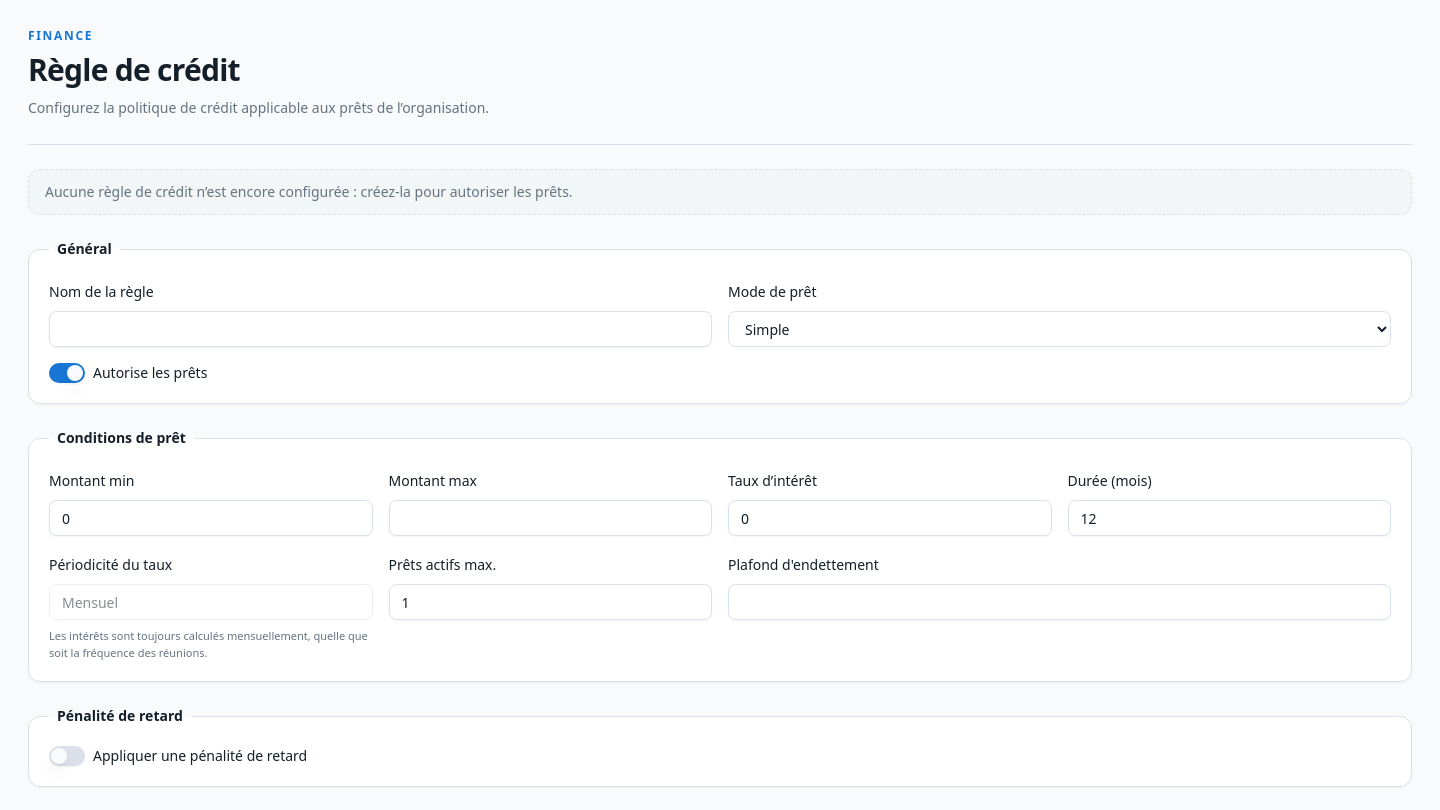
Paramètres → Règle de crédit (règle unique du tenant) › aucune règle : « Créer la règle de crédit » (mode Simple par défaut), puis la page affiche la règle créée
Expected: the text "Aucune règle de crédit n’est encore configurée : créez-la pour autoriser les prêts." is shown, [45,182,573,201]
Expected: the dropdown labelled "Mode de prêt" shows "Simple", [728,311,1391,347]
Type "Politique de crédit Sutura" into the field labelled "Nom de la règle" at {"x": 380, "y": 329}, box [49,311,712,347]
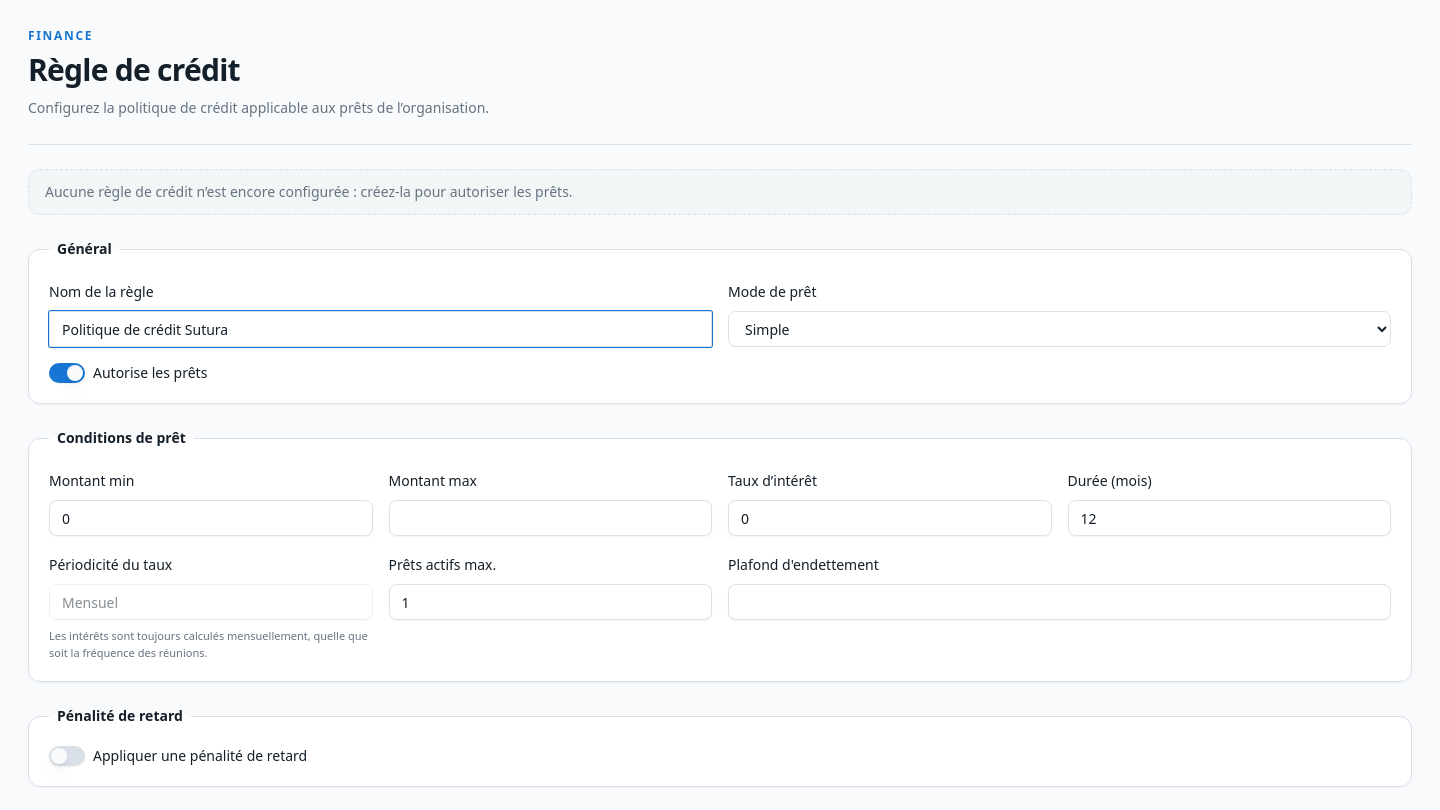
Type "1000000" into the field labelled "Montant max" at {"x": 550, "y": 518}, box [388,500,712,536]
(page scrolled)
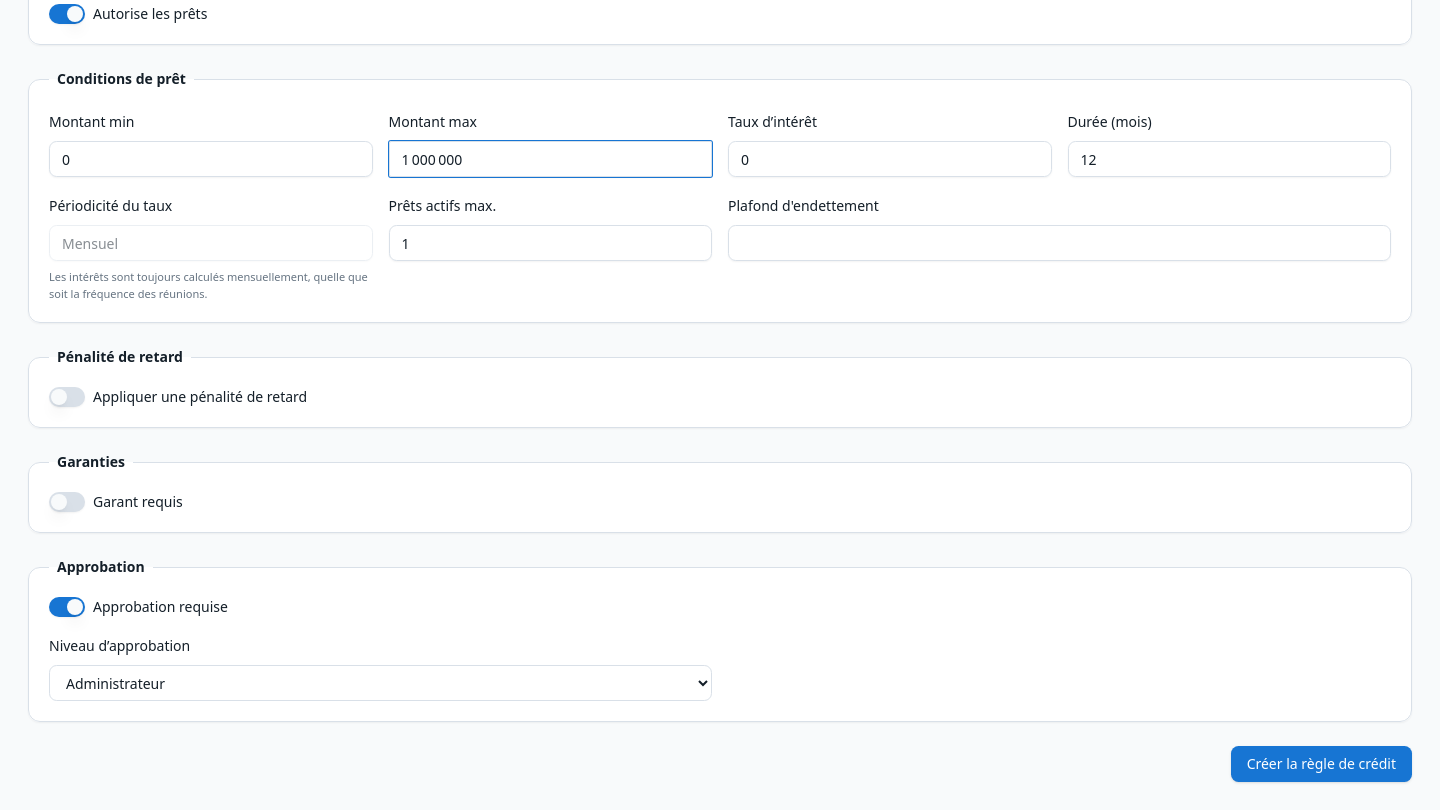
Click the button "Créer la règle de crédit" at {"x": 1321, "y": 764}, box [1231,746,1412,782]
(page scrolled)
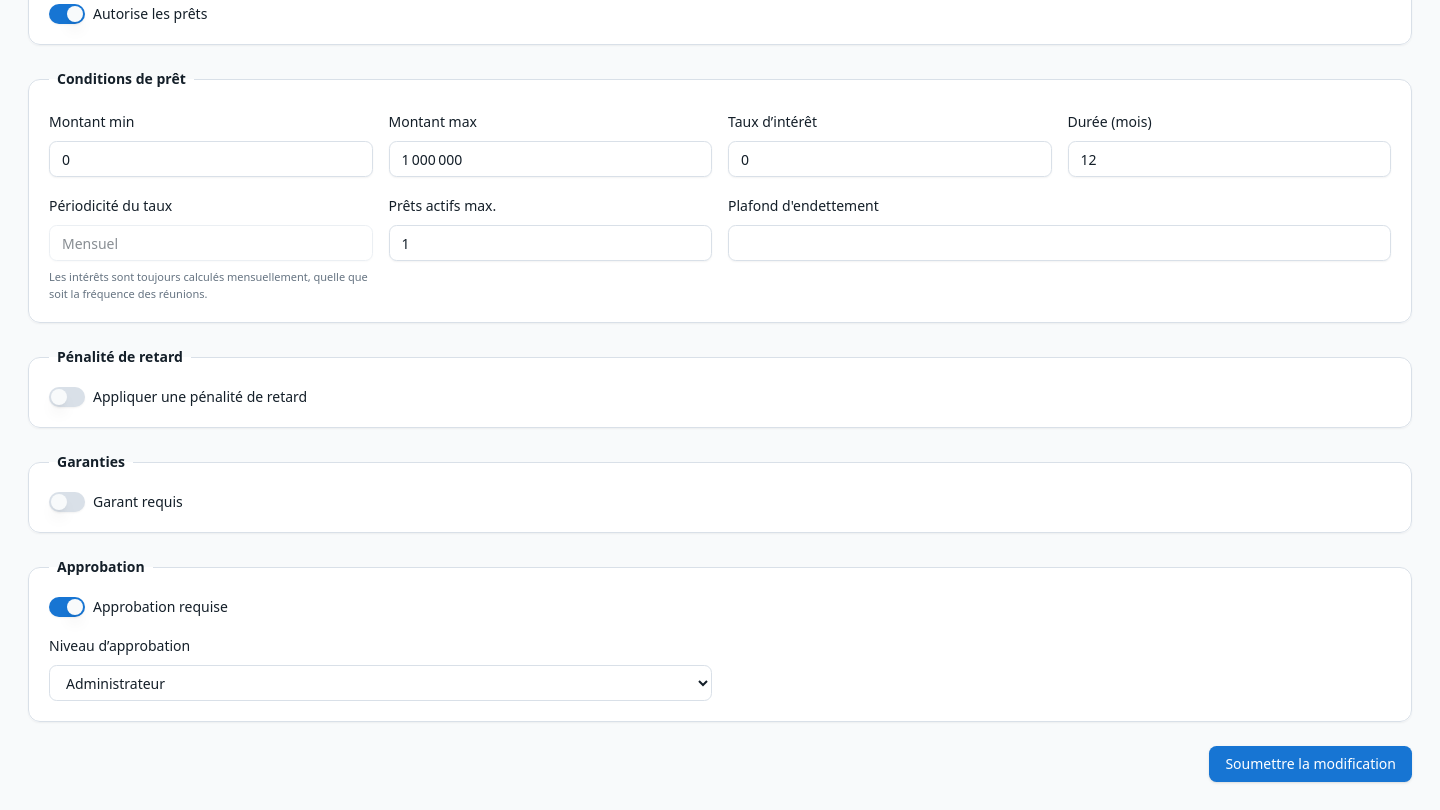
Result: the button "Soumettre la modification" is shown at [1209,746,1412,782]
Result: the button "Créer la règle de crédit" is gone
